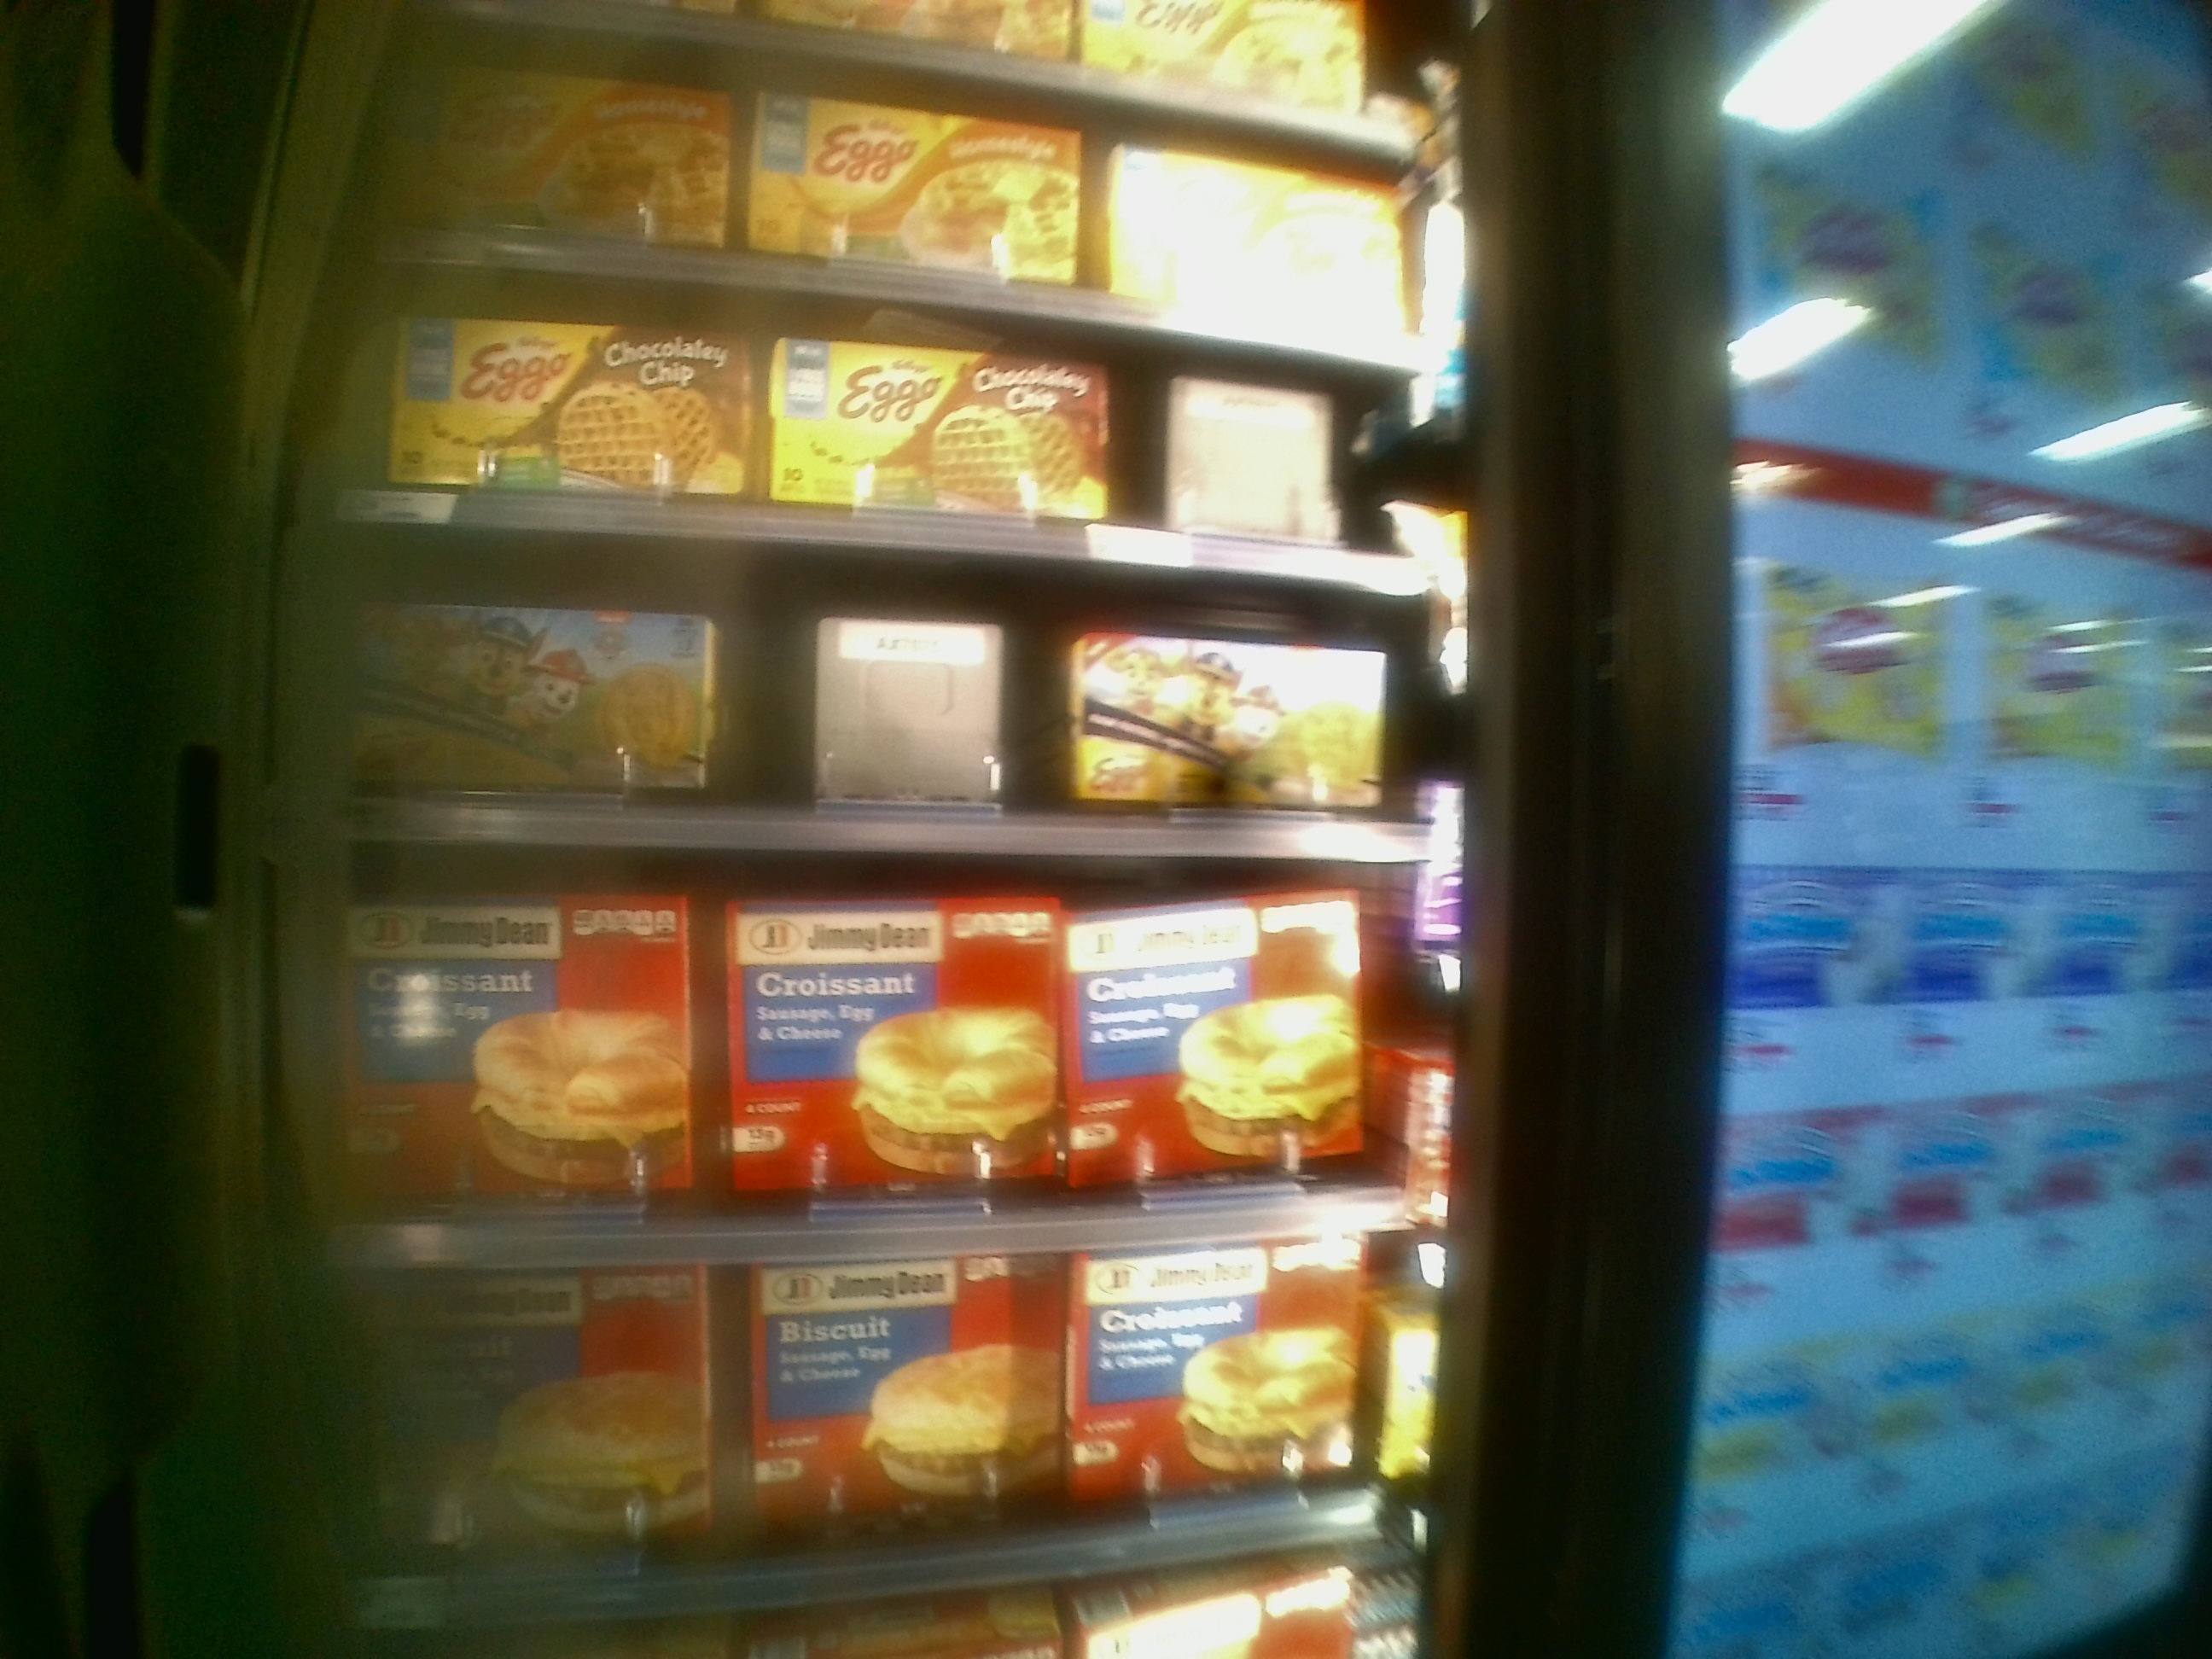shelf: (334, 836, 1470, 1251), (310, 516, 1470, 863)
